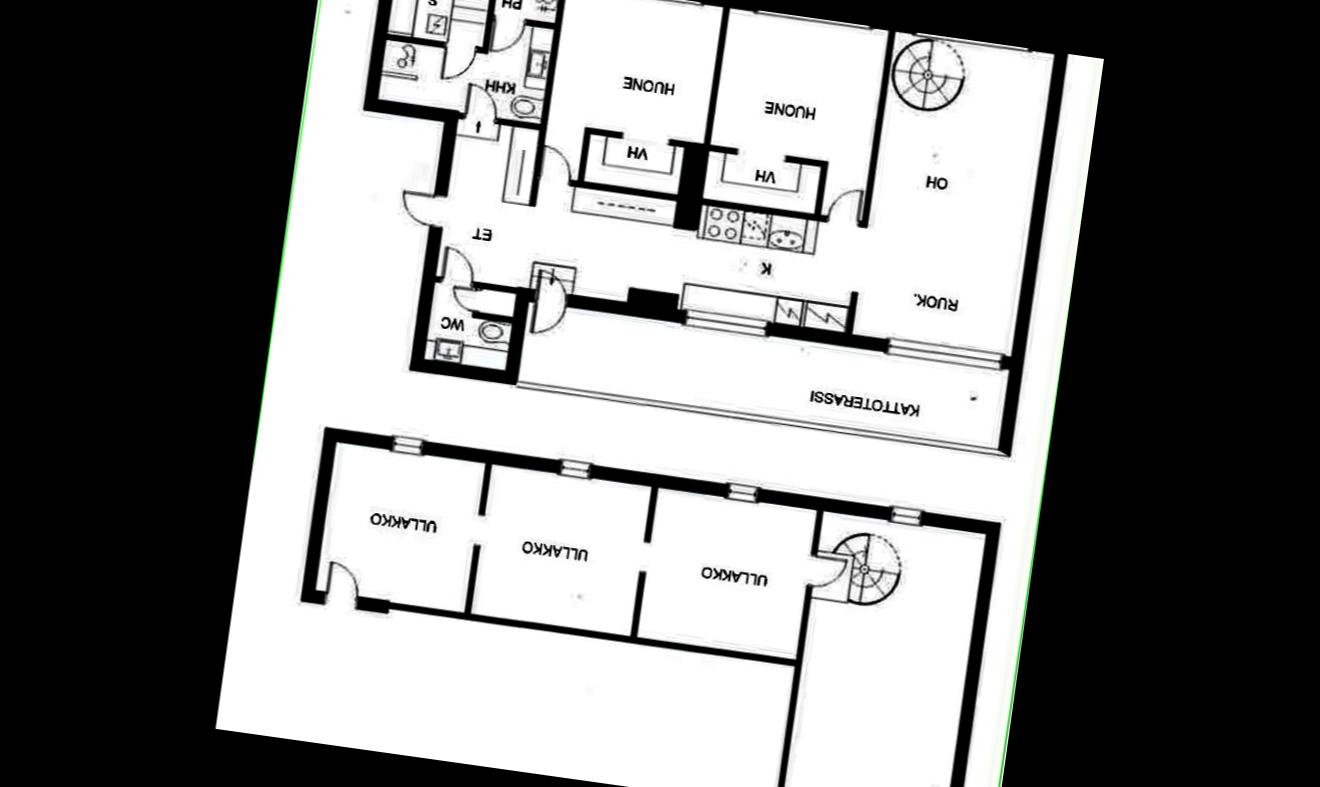door: (816, 177, 868, 232), (318, 556, 367, 612), (393, 183, 451, 230), (526, 285, 570, 339), (460, 74, 506, 124), (437, 34, 479, 86), (803, 551, 853, 594), (488, 11, 532, 55), (538, 141, 578, 188), (439, 243, 480, 288), (533, 264, 573, 306), (444, 280, 487, 316)
window: (876, 334, 1012, 376), (676, 302, 779, 342), (744, 8, 876, 32), (908, 31, 1037, 55), (881, 501, 932, 532), (722, 477, 770, 509), (382, 431, 434, 460), (577, 0, 711, 10), (555, 454, 598, 484)
